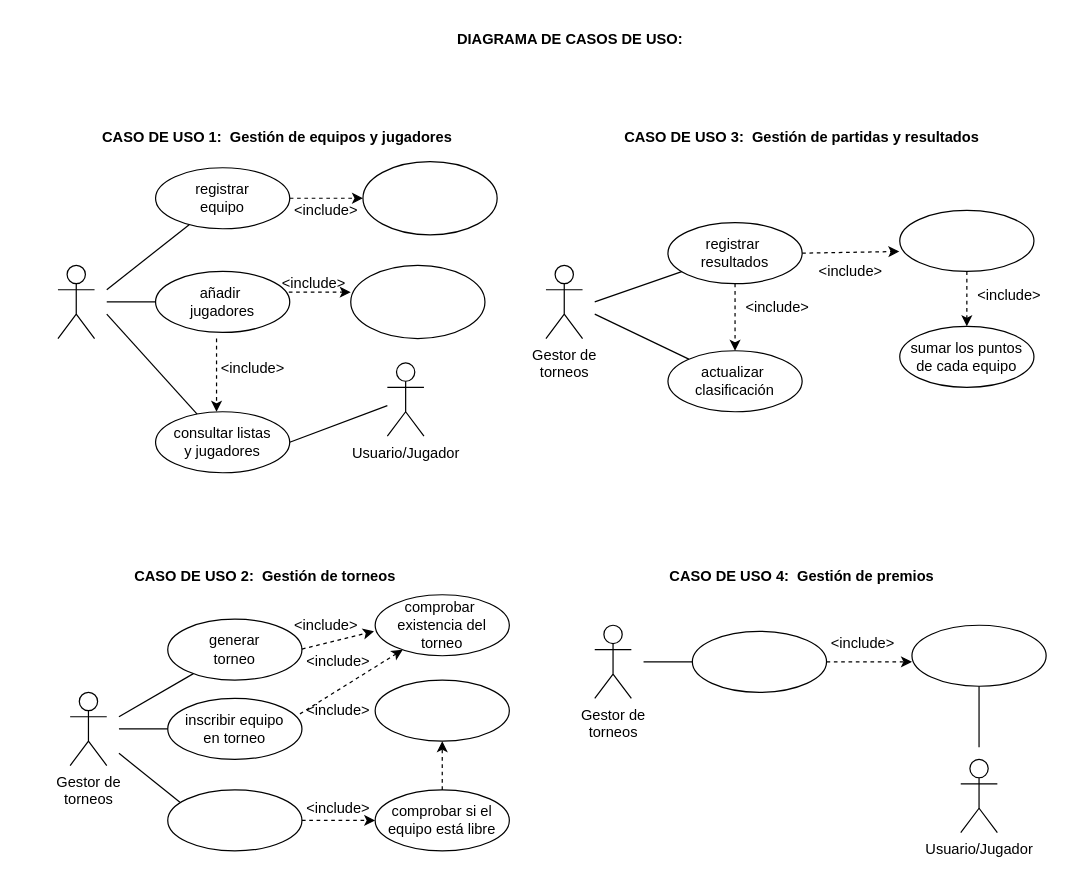
This 1068x878 diagram has some shape labels left out. Here are the shapes that lost their labels. From the top down, the centre of each, then its label:
pixel 429 197: comprobar si se registró
pixel 966 240: comprobar el resultado de cada partida
pixel 76 301: Administrador
pixel 417 301: comprobar si se añadieron
pixel 759 661: asignar premio a ganadores
pixel 978 655: comprobar clasificación
pixel 441 710: comprobar si se inscribió
pixel 234 820: generar emparejamiento
